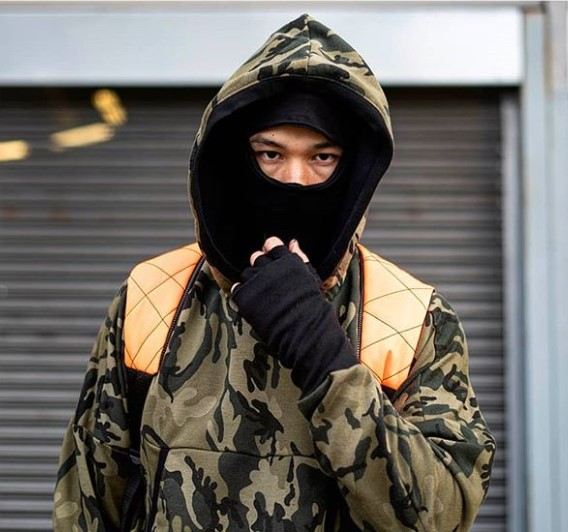face_with_mask: (230, 85, 359, 264)
